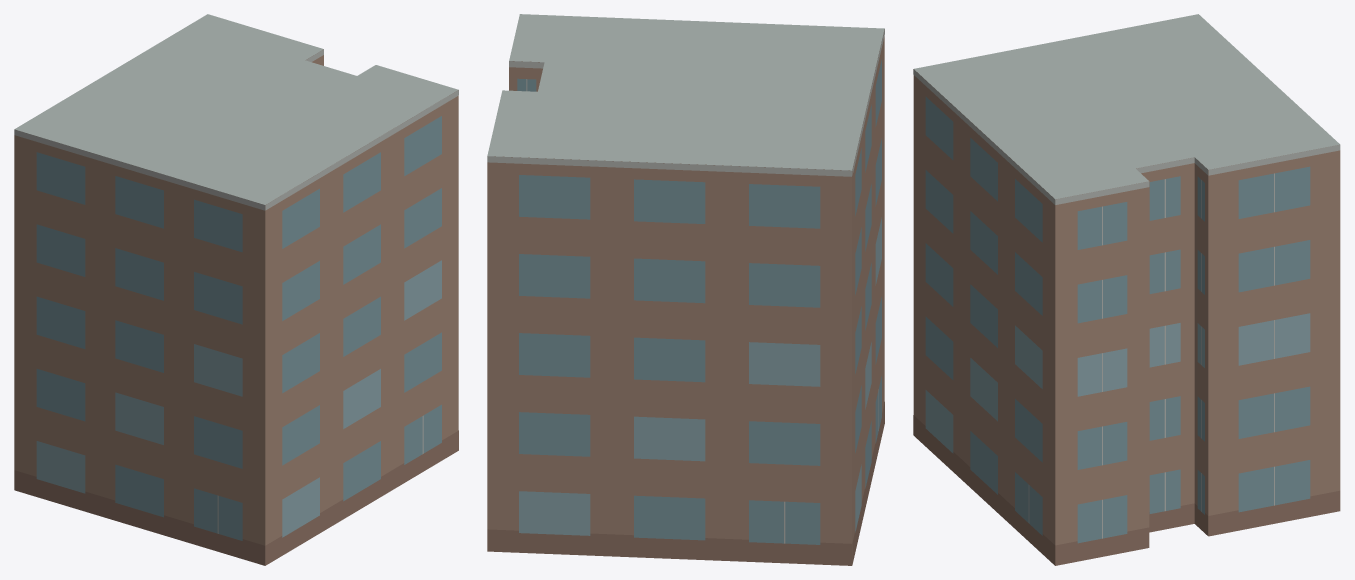
Rendered from survey-upis-32732803.glb.
3 renders of one model, left to right at view 1: azimuth 30°, elevation 25°; view 2: azimuth 150°, elevation 25°; view 3: azimuth 270°, elevation 25°, orthographic. The views are drawn at different scales.
Visible parts, largest first — view 1: survey-upis-32732803.tmp; view 2: survey-upis-32732803.tmp; view 3: survey-upis-32732803.tmp.
Boxes of the visible parts, box(x1,y1,x2,y2) form: survey-upis-32732803.tmp: box(14, 14, 458, 565); survey-upis-32732803.tmp: box(487, 14, 884, 565); survey-upis-32732803.tmp: box(913, 14, 1340, 565).
Bounding box in the file's own units: 16.6 × 15.3 × 16.15.
